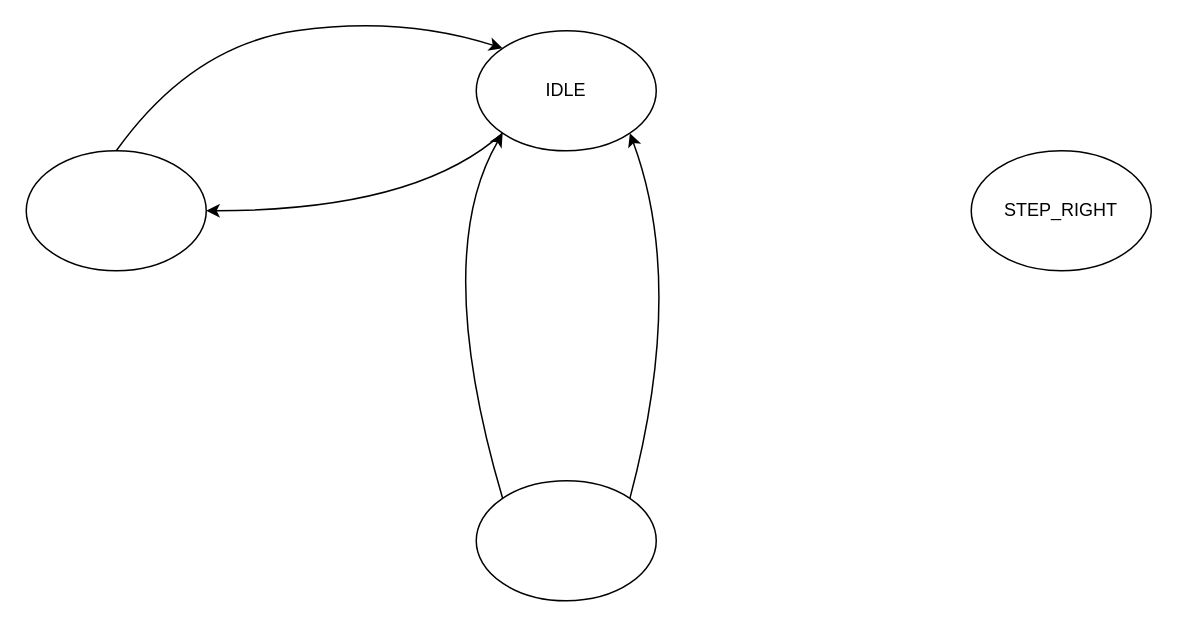
Image size: 1178x629. Some labels were removed from this diagram. The shapes that lost their labels are listed below. From the top down, each one's centre as x and y in pixels, then its label:
At point 115,210: "STEP_LEFT".
At point 565,540: "PULSE".
